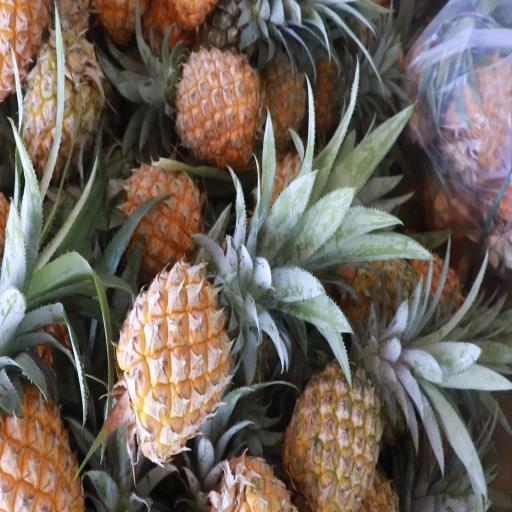------------------------------: (288, 350, 380, 509), (20, 44, 102, 191)
Pineapple - v8 v1: (114, 266, 229, 449), (0, 377, 79, 512), (175, 50, 260, 162), (120, 160, 202, 263)
